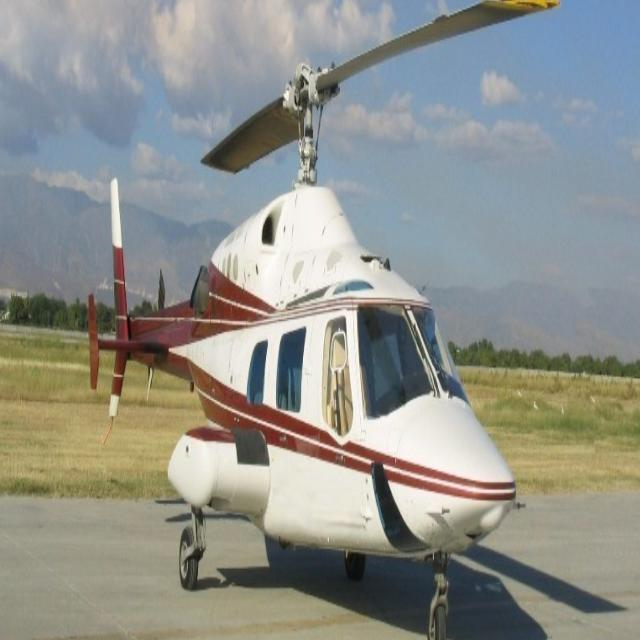helicopter: (71, 1, 574, 640)
